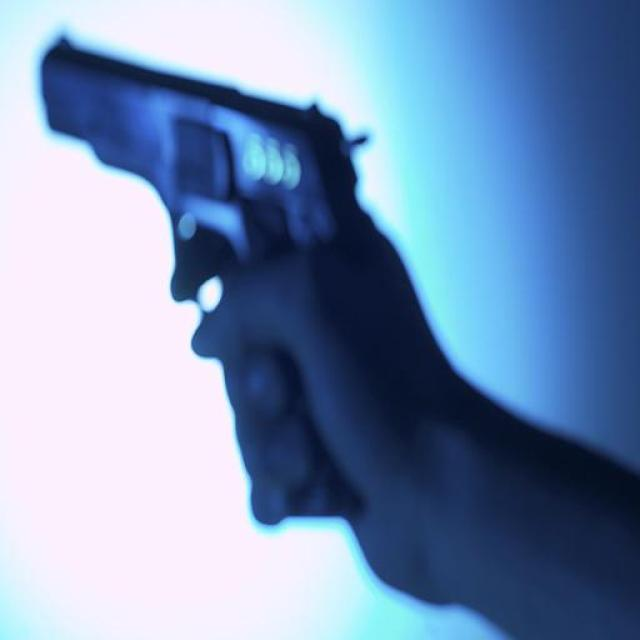pistol: (34, 23, 374, 531)
